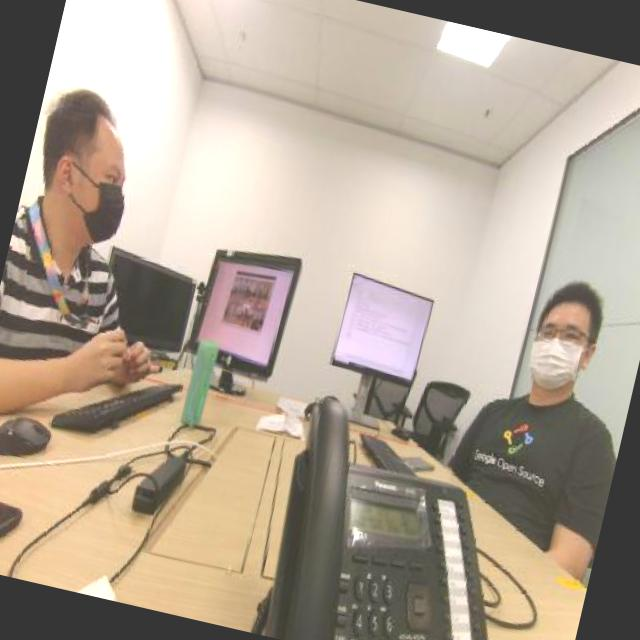Person: (455, 224, 640, 517), (0, 47, 169, 363)
